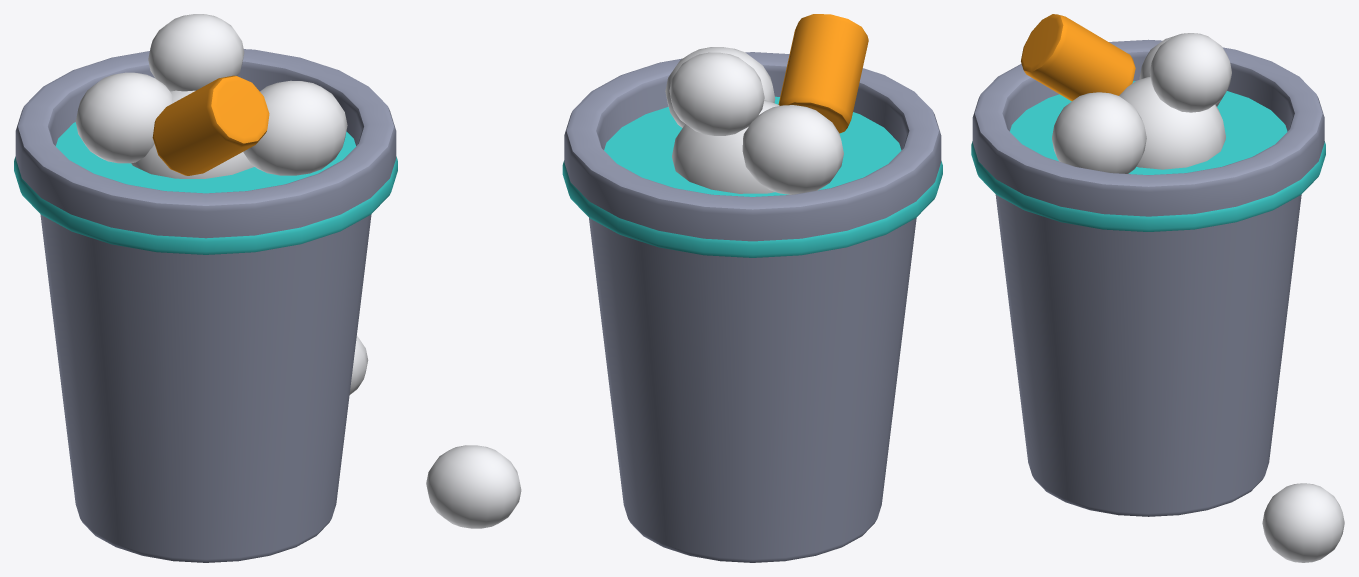
File: trash_bin.glb
The picture shows the model from 3 angles, left to right: view 1: azimuth 30°, elevation 25°; view 2: azimuth 150°, elevation 25°; view 3: azimuth 270°, elevation 25°; orthographic projection. The views are drawn at different scales.
Visible parts, largest first — view 1: Body; view 2: Body; view 3: Body.
Part boxes in pixels (x1,y1,x2,y2): Body: [14, 14, 397, 562]; Body: [426, 14, 942, 562]; Body: [971, 14, 1344, 562].
Bounding box in the file's own units: 0.617 × 0.6881 × 0.5305.
